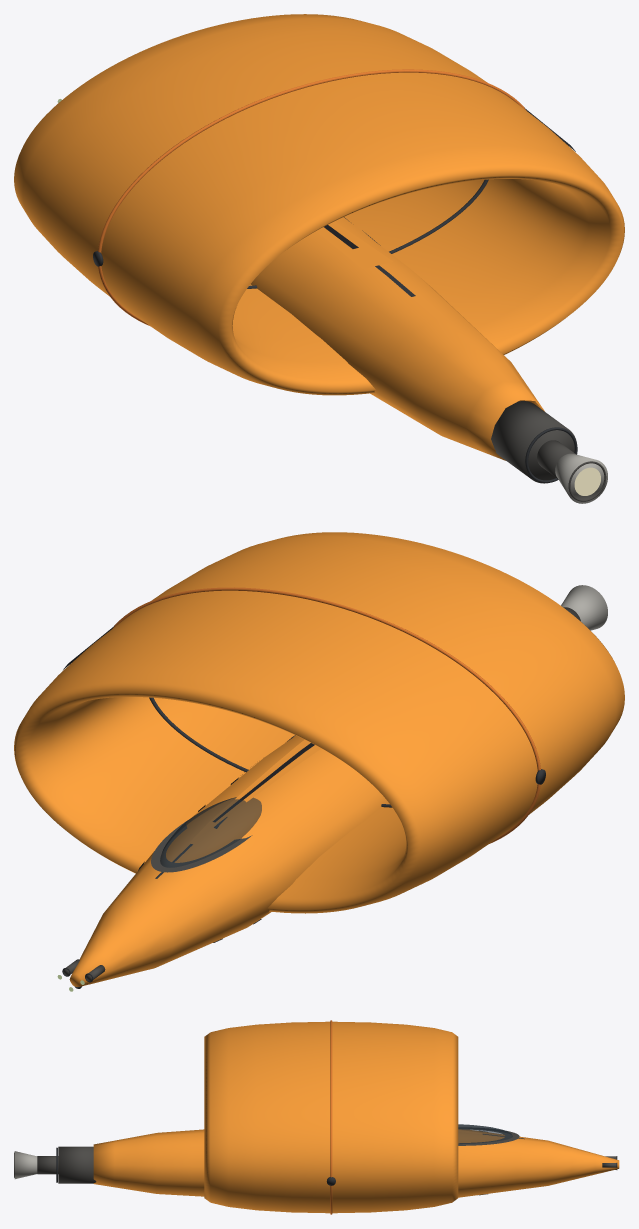
File: Ship_Hooper_828008.glb
3 views of the same model, one above another, from view 1: azimuth 30°, elevation 25°; view 2: azimuth 150°, elevation 25°; view 3: azimuth 270°, elevation 25° (orthographic). The views are drawn at different scales.
Parts seen in each view (by area): view 1: Hoop_MainStructuralRing_YAxisHole_ElongatedY_LowerMidpointAt, Fuselage_MainCenteredHull_CenterOfMassAtOrigin, EngineBlock_AftHullIntegratedMountPlate, Hoop_OuterArmorRaisedRim, PaintFuselage_DorsalPrimaryBlade, EngineBell_Center_AftHullBurnishedNozzle, EngineThroat_Center_AftHullDarkSocket; view 2: Hoop_MainStructuralRing_YAxisHole_ElongatedY_LowerMidpointAt, Fuselage_MainCenteredHull_CenterOfMassAtOrigin, CanopyGlass_LowForwardPodDome, Hoop_OuterArmorRaisedRim, PaintFuselage_DorsalPrimaryBlade, EngineBell_Center_AftHullBurnishedNozzle, CanopyFrame_LowInsetOvalRim; view 3: Hoop_MainStructuralRing_YAxisHole_ElongatedY_LowerMidpointAt, Fuselage_MainCenteredHull_CenterOfMassAtOrigin, EngineBlock_AftHullIntegratedMountPlate, CanopyGlass_LowForwardPodDome, EngineBell_Center_AftHullBurnishedNozzle, Hoop_OuterArmorRaisedRim, CanopyFrame_LowInsetOvalRim, EngineThroat_Center_AftHullDarkSocket.
Part boxes in pixels (x1,y1,x2,y2): Hoop_MainStructuralRing_YAxisHole_ElongatedY_LowerMidpointAt: [14, 14, 624, 395]; Fuselage_MainCenteredHull_CenterOfMassAtOrigin: [250, 217, 544, 460]; EngineBlock_AftHullIntegratedMountPlate: [491, 401, 576, 483]; Hoop_OuterArmorRaisedRim: [98, 69, 526, 325]; PaintFuselage_DorsalPrimaryBlade: [316, 221, 393, 268]; EngineBell_Center_AftHullBurnishedNozzle: [555, 453, 607, 503]; EngineThroat_Center_AftHullDarkSocket: [537, 440, 575, 478]; Hoop_MainStructuralRing_YAxisHole_ElongatedY_LowerMidpointAt: [14, 532, 624, 913]; Fuselage_MainCenteredHull_CenterOfMassAtOrigin: [69, 735, 387, 986]; CanopyGlass_LowForwardPodDome: [160, 797, 261, 867]; Hoop_OuterArmorRaisedRim: [112, 587, 540, 843]; PaintFuselage_DorsalPrimaryBlade: [189, 739, 321, 843]; EngineBell_Center_AftHullBurnishedNozzle: [561, 585, 607, 630]; CanopyFrame_LowInsetOvalRim: [151, 820, 252, 872]; Hoop_MainStructuralRing_YAxisHole_ElongatedY_LowerMidpointAt: [204, 1021, 458, 1213]; Fuselage_MainCenteredHull_CenterOfMassAtOrigin: [93, 1129, 619, 1197]; EngineBlock_AftHullIntegratedMountPlate: [58, 1146, 96, 1183]; CanopyGlass_LowForwardPodDome: [458, 1124, 512, 1144]; EngineBell_Center_AftHullBurnishedNozzle: [14, 1151, 37, 1179]; Hoop_OuterArmorRaisedRim: [330, 1020, 332, 1214]; CanopyFrame_LowInsetOvalRim: [458, 1128, 519, 1145]; EngineThroat_Center_AftHullDarkSocket: [37, 1156, 58, 1174].
Size of the model in its own units: 3.78 by 2.09 by 7.59.
